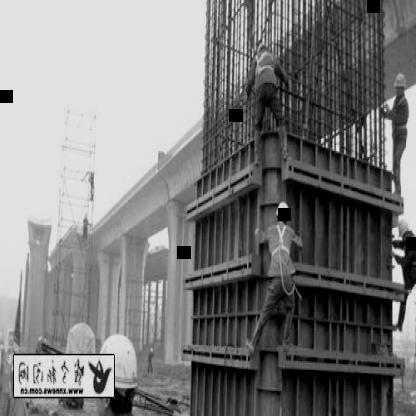helmet: (97, 331, 138, 416), (275, 197, 289, 229), (393, 71, 407, 102), (397, 216, 411, 246)
